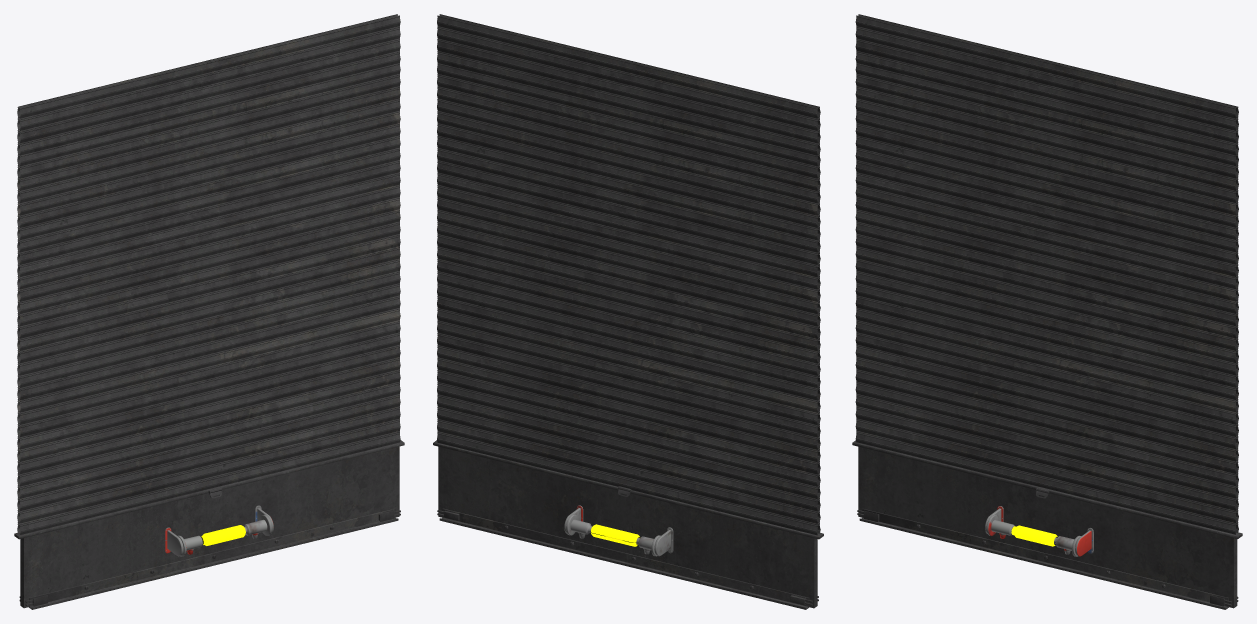
3 views of the same model, side by side, from view 1: azimuth 30°, elevation 25°; view 2: azimuth 150°, elevation 25°; view 3: azimuth 330°, elevation 25° (orthographic).
Visible parts, largest first — view 1: gate2, gate, gate.001; view 2: gate2, gate, gate.001; view 3: gate2, gate, gate.001.
Part boxes in pixels (x1=…): gate2: x1=14, y1=14, x2=404, y2=609; gate: x1=165, y1=505, x2=273, y2=556; gate.001: x1=201, y1=525, x2=245, y2=545; gate2: x1=433, y1=14, x2=823, y2=609; gate: x1=564, y1=505, x2=673, y2=556; gate.001: x1=591, y1=524, x2=640, y2=546; gate2: x1=852, y1=14, x2=1242, y2=609; gate: x1=985, y1=506, x2=1093, y2=556; gate.001: x1=1011, y1=525, x2=1057, y2=546.
Bounding box in the file's own units: 10.7 × 13.26 × 1.73.
Materials: 4 (3 with a texture image).
